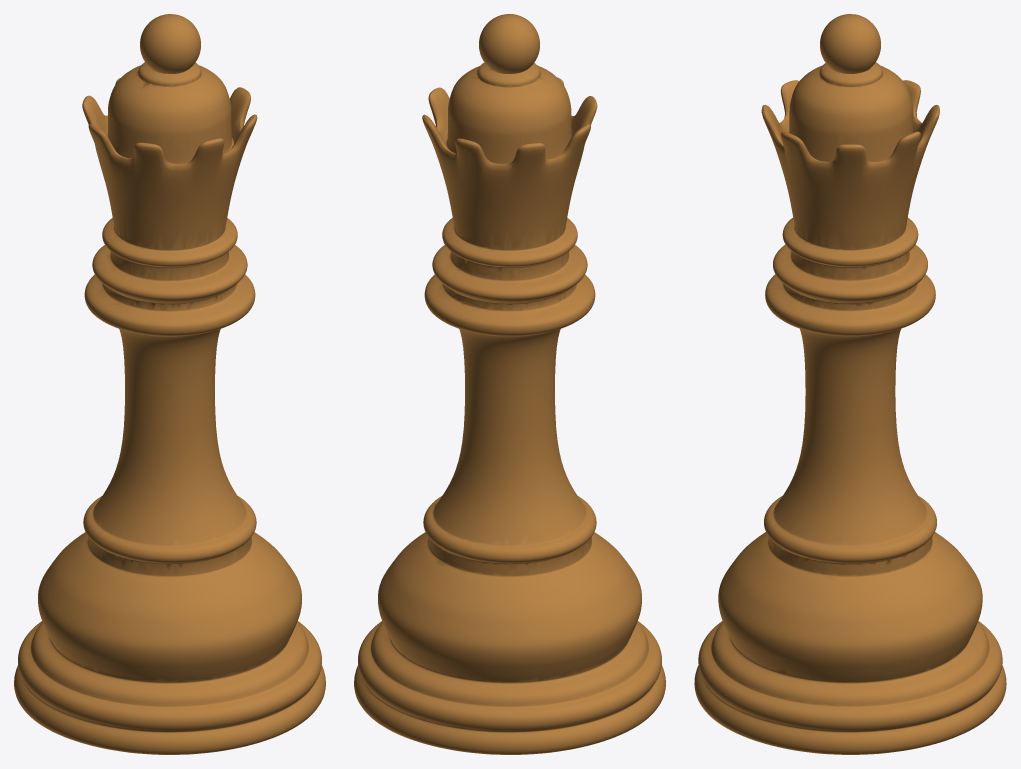
File: gercek3_q_w.glb
3 views of the same model, side by side, from view 1: azimuth 30°, elevation 25°; view 2: azimuth 150°, elevation 25°; view 3: azimuth 270°, elevation 25° (orthographic).
Parts seen in each view (by area): view 1: Object_22; view 2: Object_22; view 3: Object_22.
Boxes of the visible parts, box(x1,y1,x2,y2) form: Object_22: box(14, 14, 325, 754); Object_22: box(354, 14, 665, 754); Object_22: box(694, 14, 1006, 754).
Bounding box in the file's own units: 1.54 × 3.67 × 1.54.
